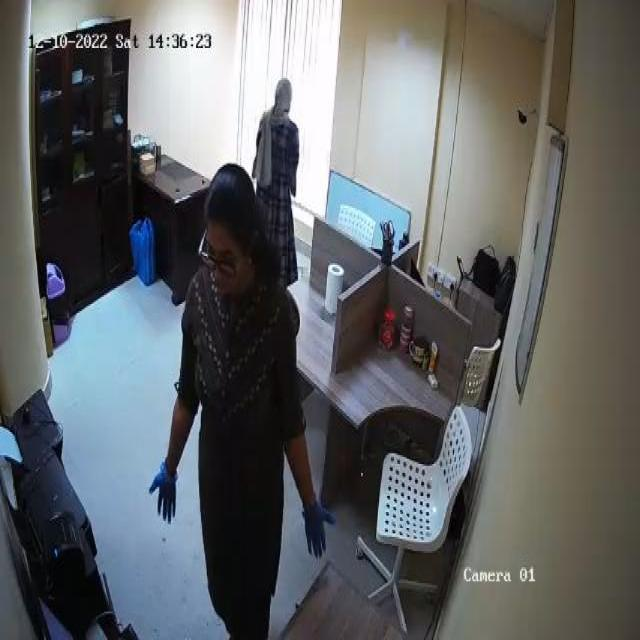gloved_hand: (295, 492, 335, 567), (148, 464, 179, 528)
